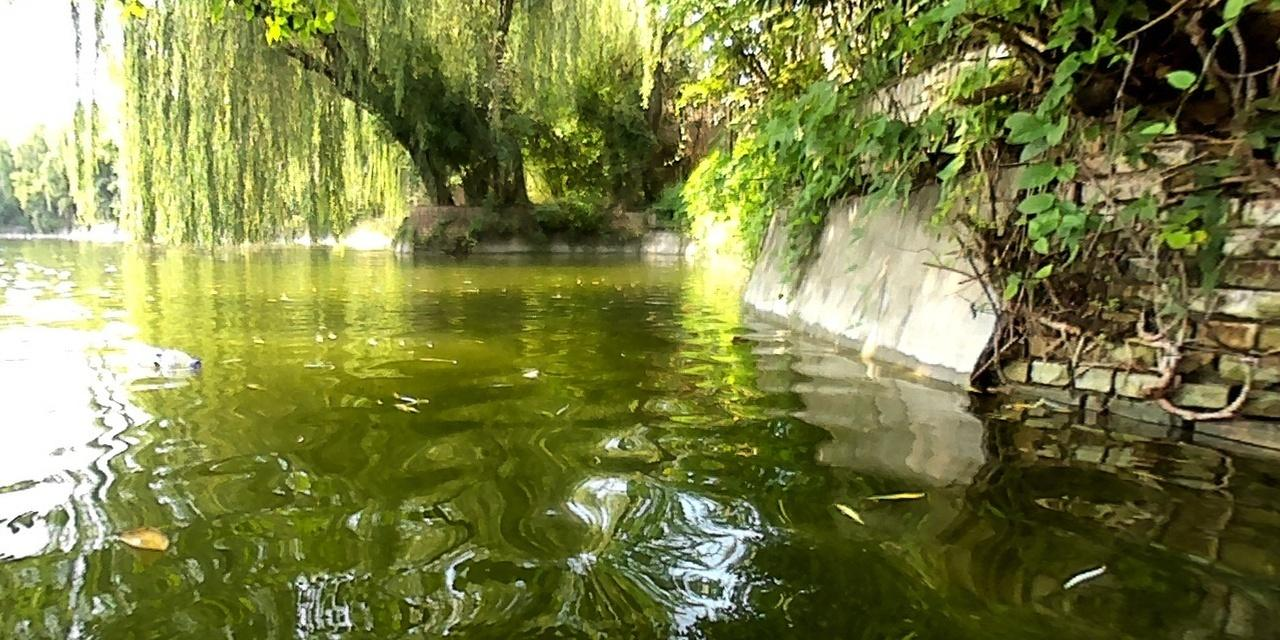bottle: (114, 340, 202, 373)
